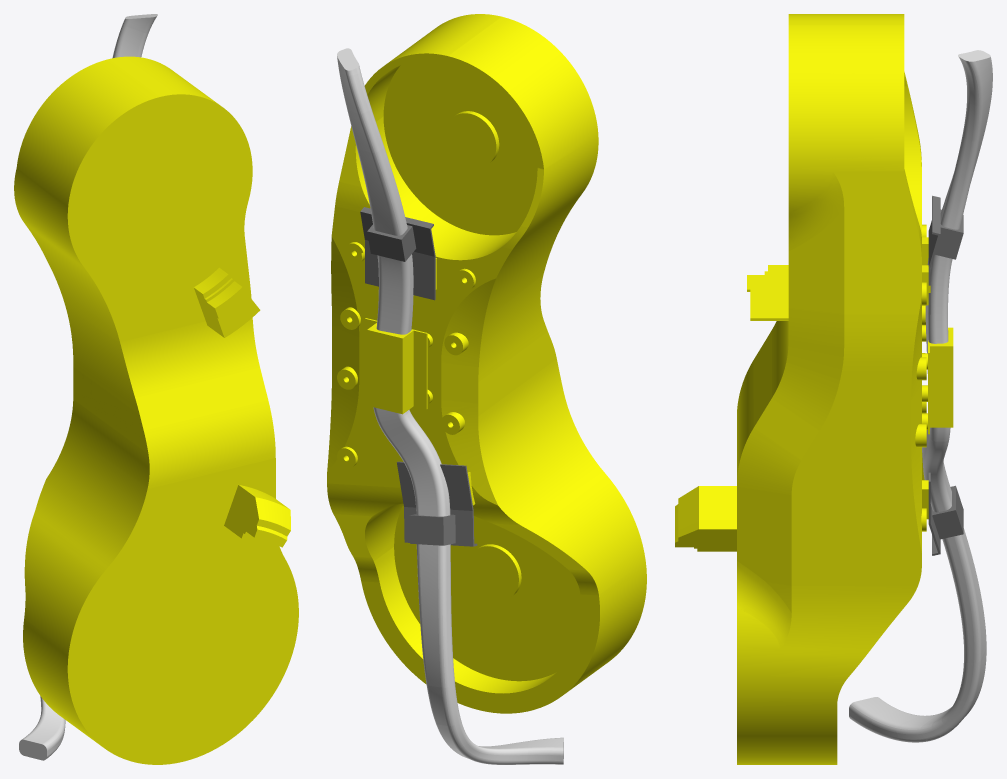
The picture shows the model from 3 angles, left to right: view 1: azimuth 30°, elevation 25°; view 2: azimuth 150°, elevation 25°; view 3: azimuth 270°, elevation 25°; orthographic projection. The views are drawn at different scales.
Parts seen in each view (by area): view 1: Mesh_0; view 2: Mesh_0; view 3: Mesh_0.
Boxes of the visible parts, x1,y1,x2,y2 form: Mesh_0: [14, 14, 298, 764]; Mesh_0: [327, 14, 646, 764]; Mesh_0: [675, 14, 992, 764].
Bounding box in the file's own units: 0.4499 × 0.4783 × 1.25.
